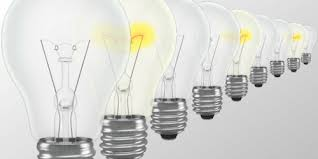bulb: (2, 1, 131, 153), (78, 1, 178, 138), (123, 1, 215, 119), (179, 2, 240, 101), (217, 1, 263, 84), (240, 1, 280, 79), (263, 13, 293, 71), (280, 18, 305, 62), (294, 20, 317, 61)
